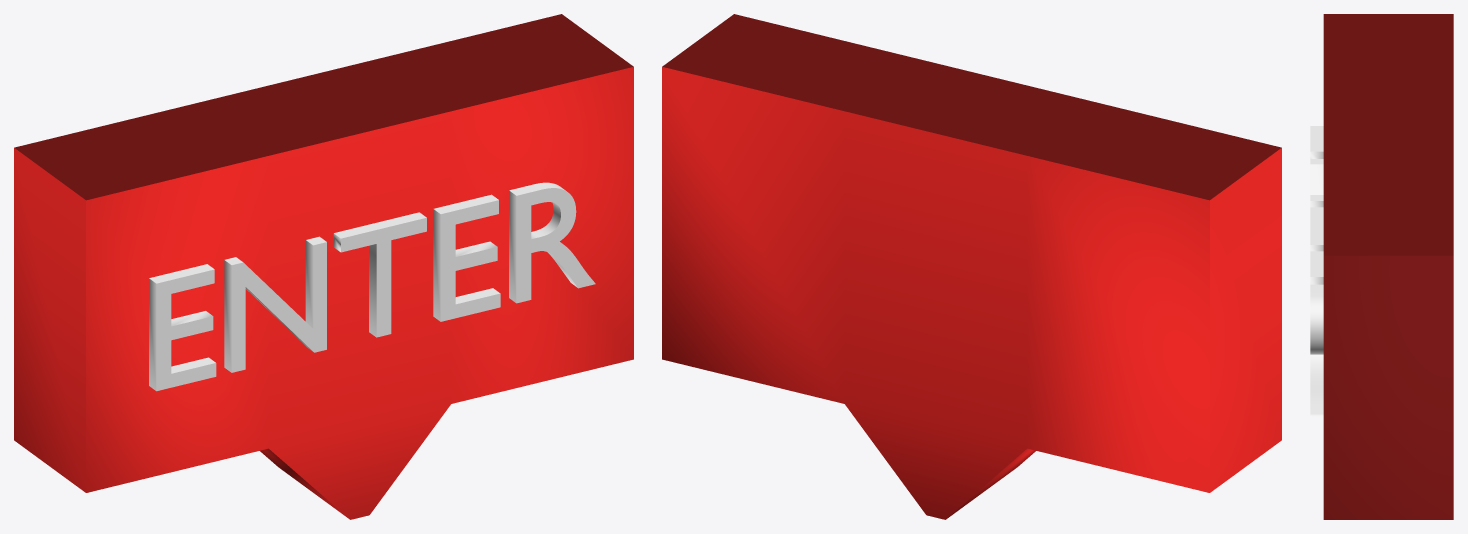
The model's file is isometric_enter_popup.gltf.
The picture shows the model from 3 angles, left to right: view 1: azimuth 30°, elevation 25°; view 2: azimuth 150°, elevation 25°; view 3: azimuth 270°, elevation 25°; orthographic projection. The views are drawn at different scales.
Visible parts, largest first — view 1: enter_popup; view 2: enter_popup; view 3: enter_popup.
Boxes of the visible parts, x1,y1,x2,y2 form: enter_popup: (14, 14, 633, 519); enter_popup: (662, 14, 1281, 519); enter_popup: (1310, 14, 1453, 519).
Size of the model in its own units: 0.4209 by 0.282 by 0.1058.
